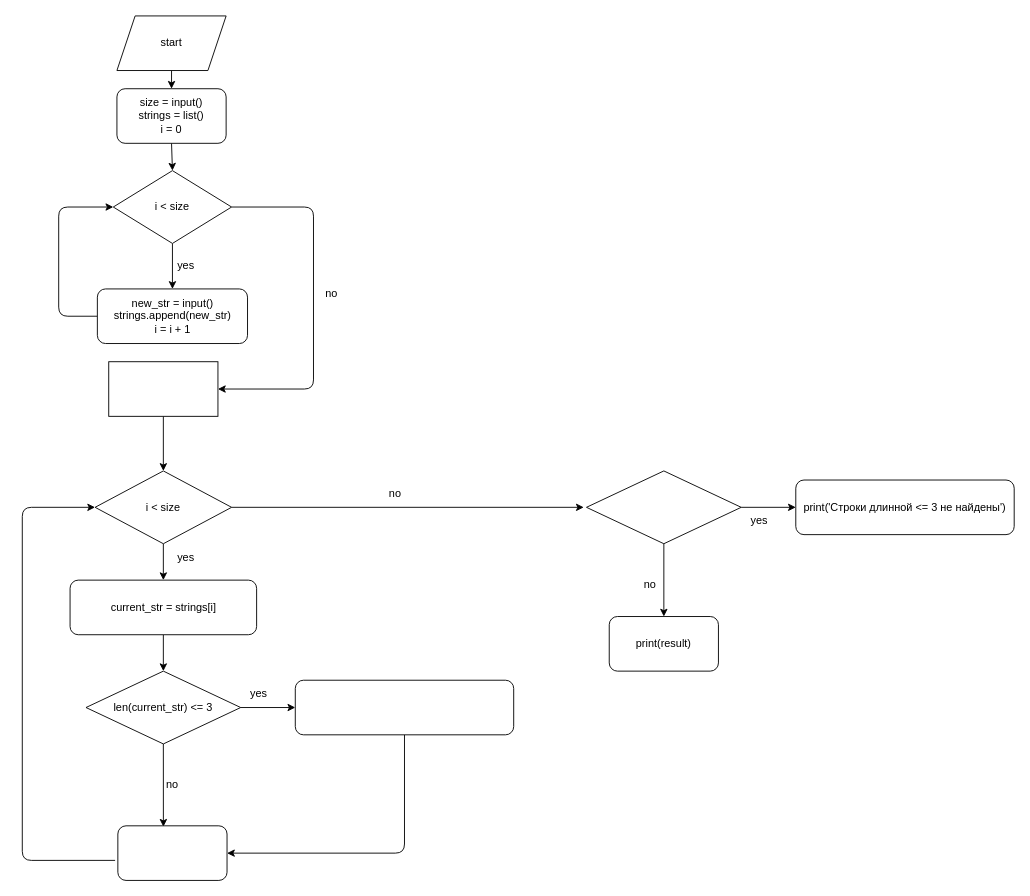
This 1030x896 diagram has some shape labels left out. The box of each missing label's shape, as (x1, y1, x2, y2) in pixels:
count == 0: (586, 470, 741, 544)
i = 0 result = list(size) count = 0: (108, 361, 218, 416)
i = i + 1: (117, 825, 227, 880)
result[count] = current_str count = count + 1: (294, 679, 514, 735)
